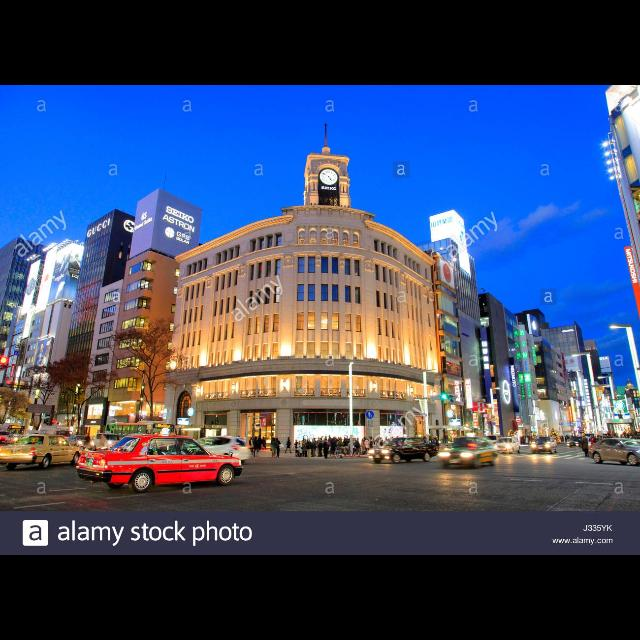head: (582, 438, 586, 440), (591, 436, 593, 439), (289, 438, 291, 440), (296, 441, 298, 443), (299, 442, 301, 444)
person: (580, 436, 590, 460), (296, 440, 304, 460), (285, 436, 293, 454), (590, 434, 598, 452), (294, 439, 300, 458)
